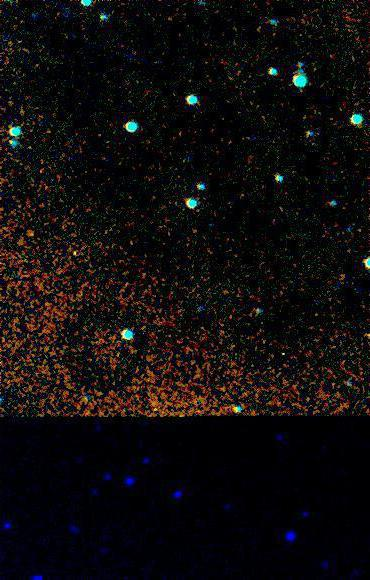star: (63, 241, 93, 271)
